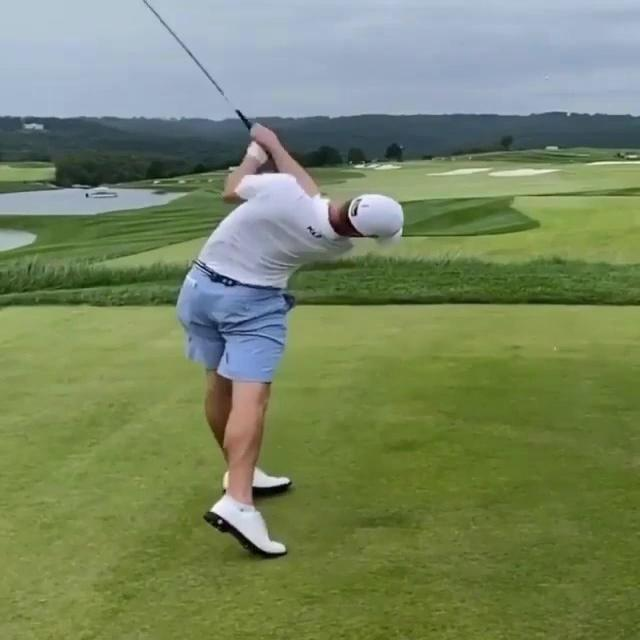golf club-handle: (141, 0, 250, 128)
